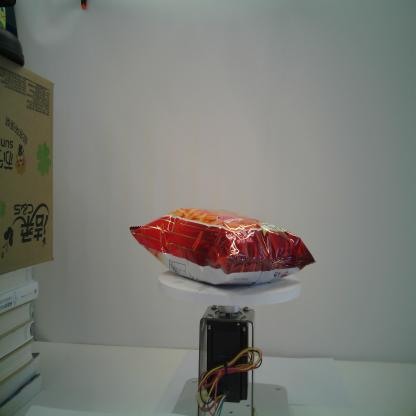Puffed Food: (128, 207, 317, 288)
